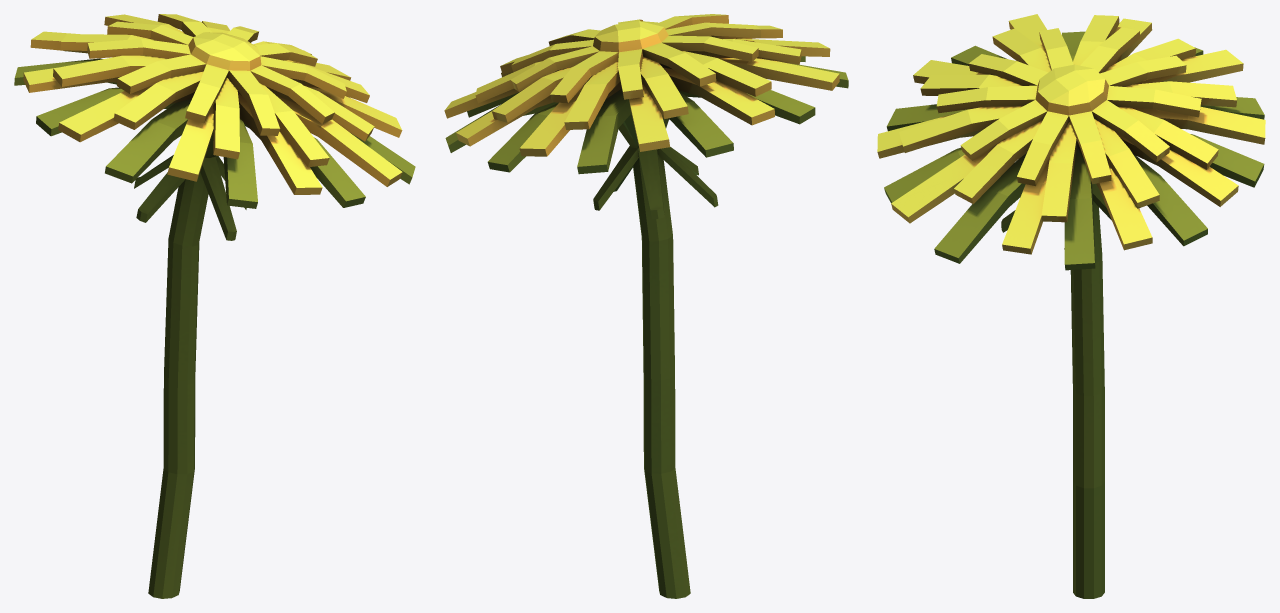
Rendered from 7160c650-5164-4f23-b2ec-5fde8ed75f3f.glb.
3 renders of one model, left to right at view 1: azimuth 30°, elevation 25°; view 2: azimuth 150°, elevation 25°; view 3: azimuth 270°, elevation 25°, orthographic.
Parts seen in each view (by area): view 1: Dandelion; view 2: Dandelion; view 3: Dandelion.
Part boxes in pixels (left/top/right/bottom): Dandelion: left=14, top=14, right=415, bottom=598; Dandelion: left=444, top=14, right=848, bottom=598; Dandelion: left=877, top=14, right=1265, bottom=598.
Size of the model in its own units: 1.26 by 1.96 by 1.27.
Materials: 1 (1 with a texture image).
